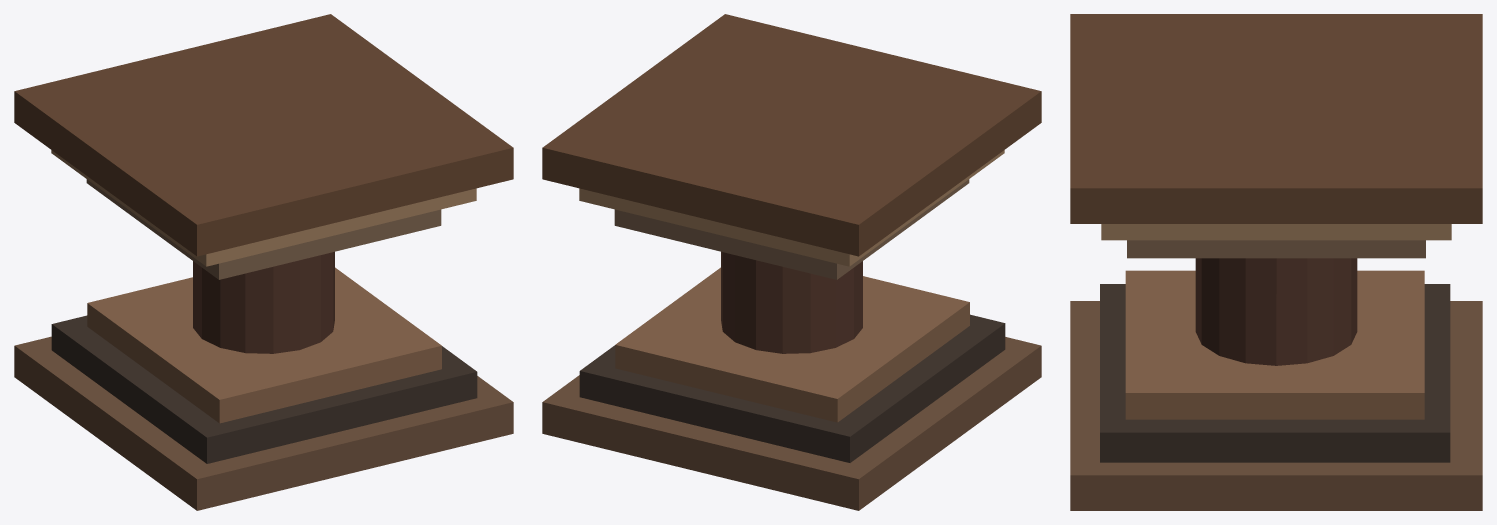
File: podest.fbx
The picture shows the model from 3 angles, left to right: view 1: azimuth 30°, elevation 25°; view 2: azimuth 150°, elevation 25°; view 3: azimuth 270°, elevation 25°; orthographic projection. The views are drawn at different scales.
Parts seen in each view (by area): view 1: Cube; view 2: Cube; view 3: Cube.
Part boxes in pixels (box(x1,y1,x2,y2)): Cube: box(14, 14, 513, 510); Cube: box(542, 14, 1041, 510); Cube: box(1070, 14, 1482, 510).
Size of the model in its own units: 200 by 173 by 200.
